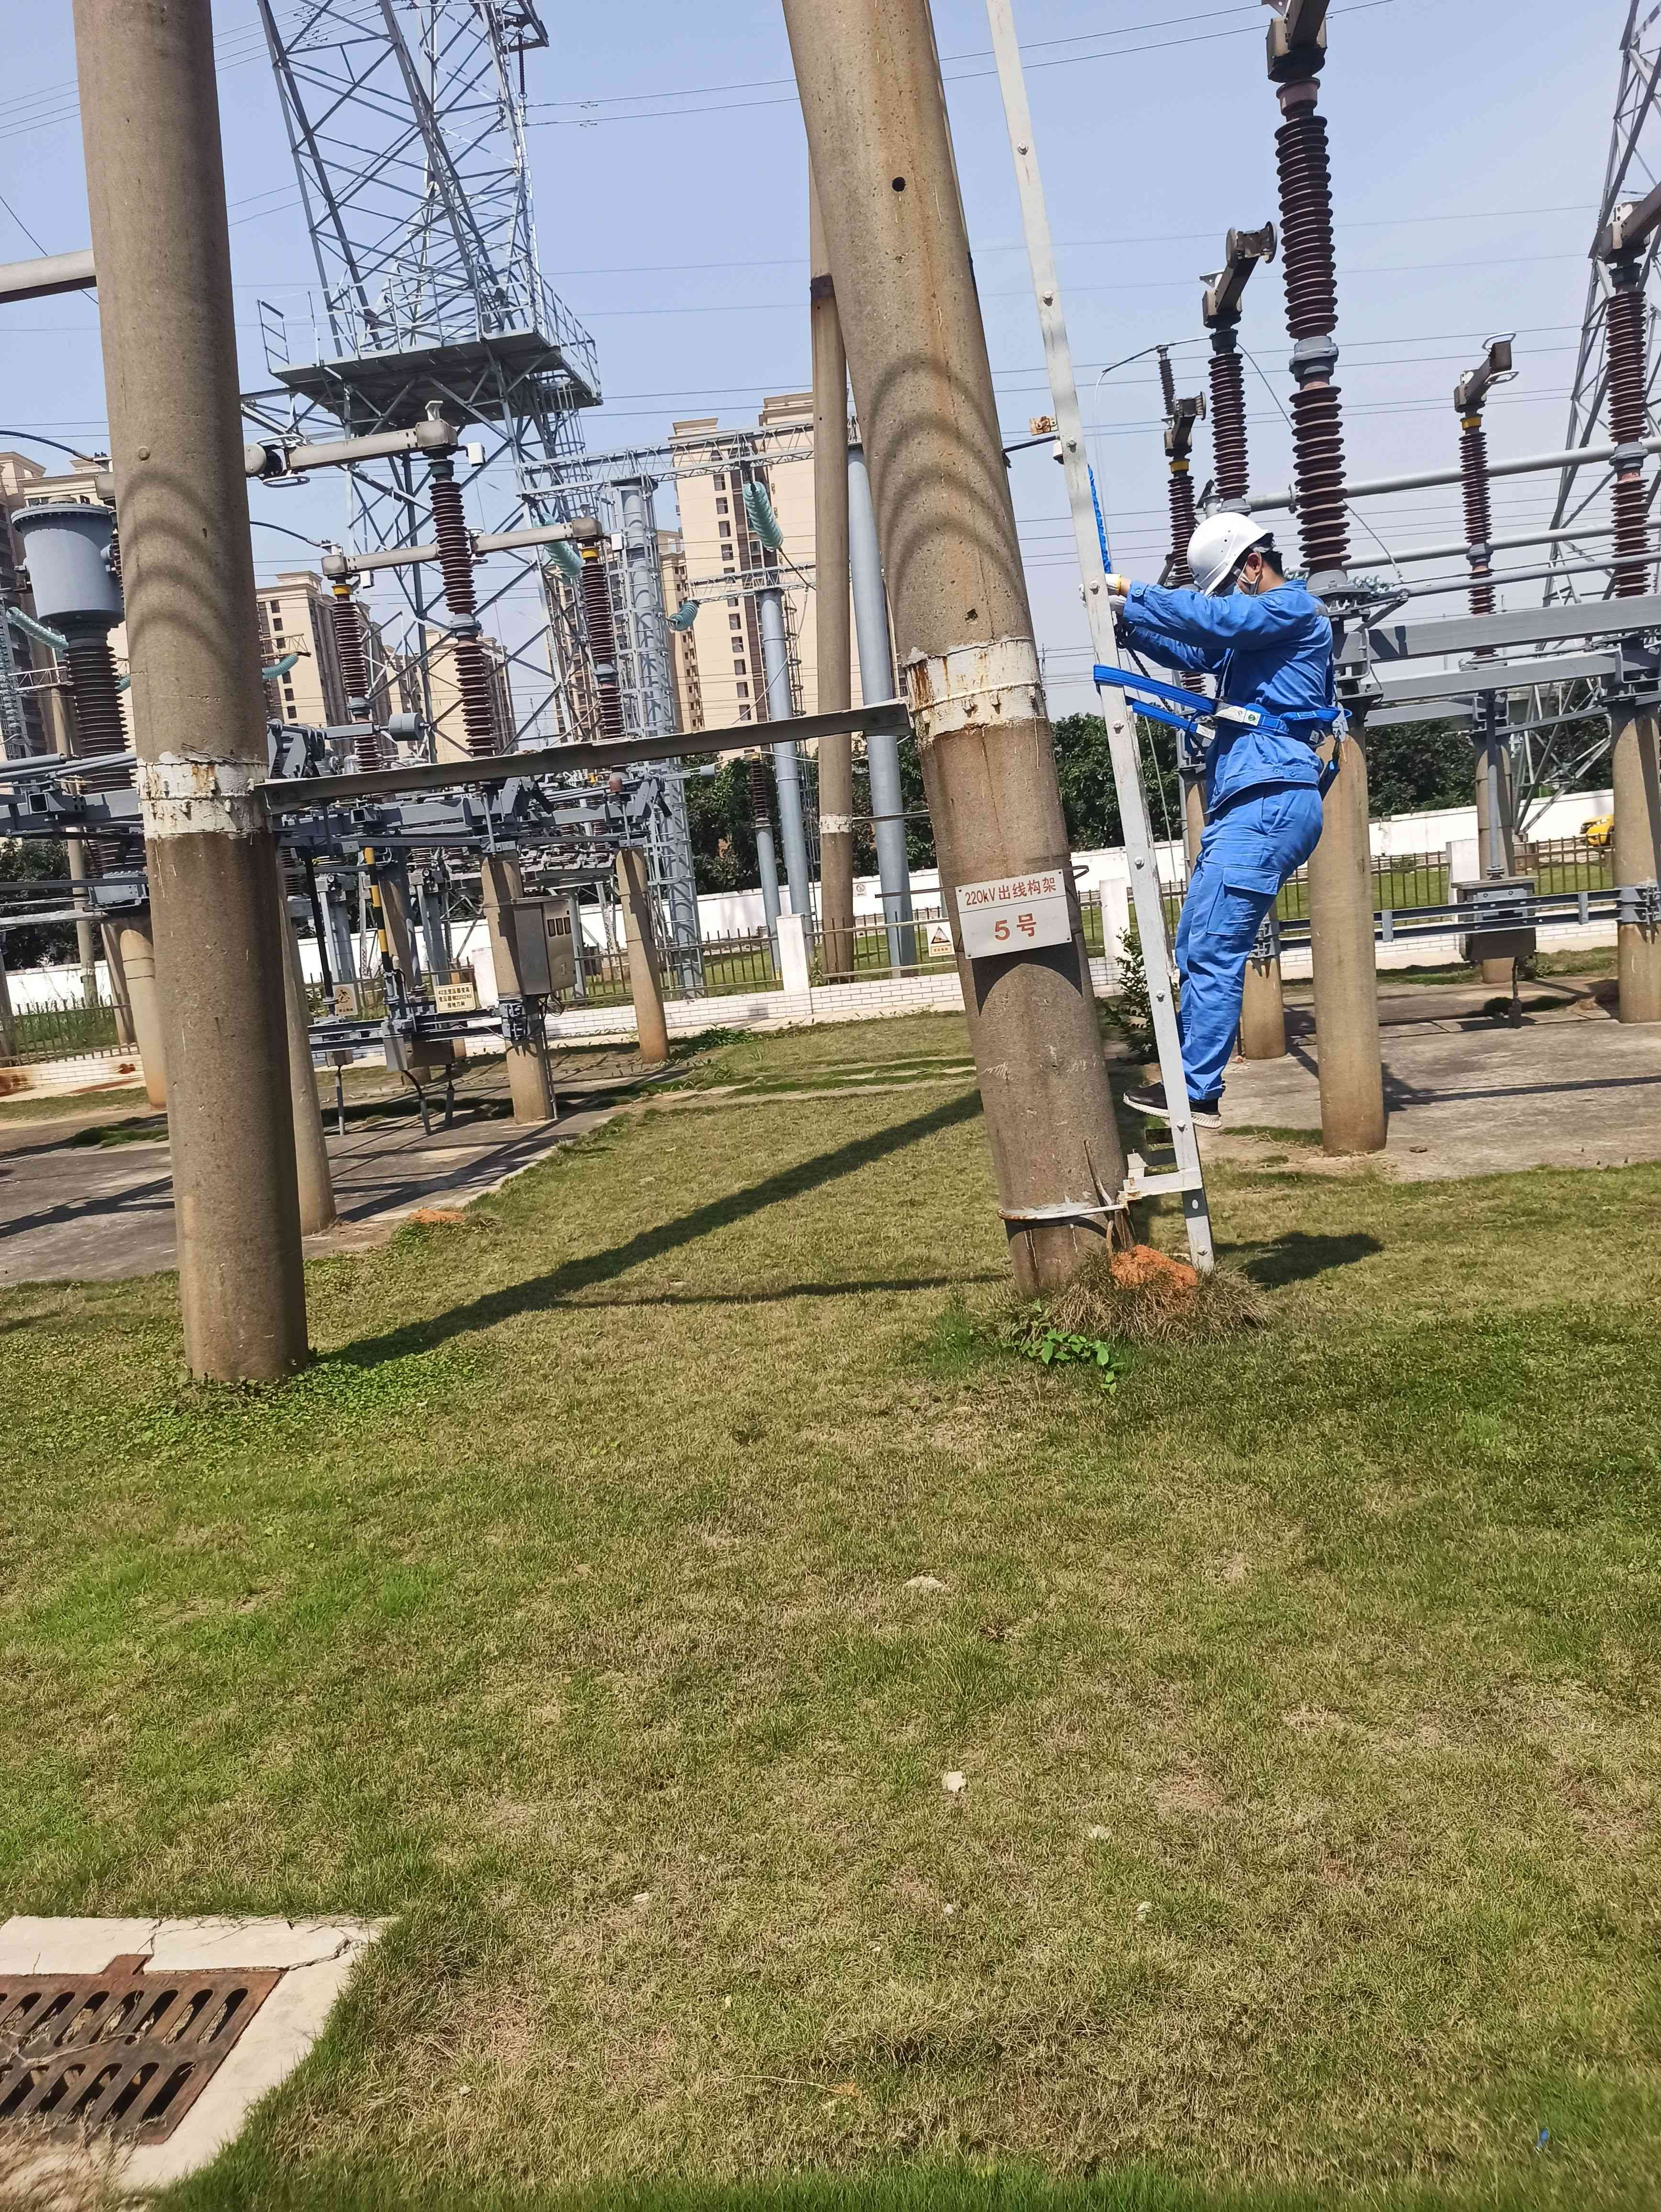downsuit: (1159, 787, 1323, 1101)
upsuit: (1122, 581, 1333, 766)
